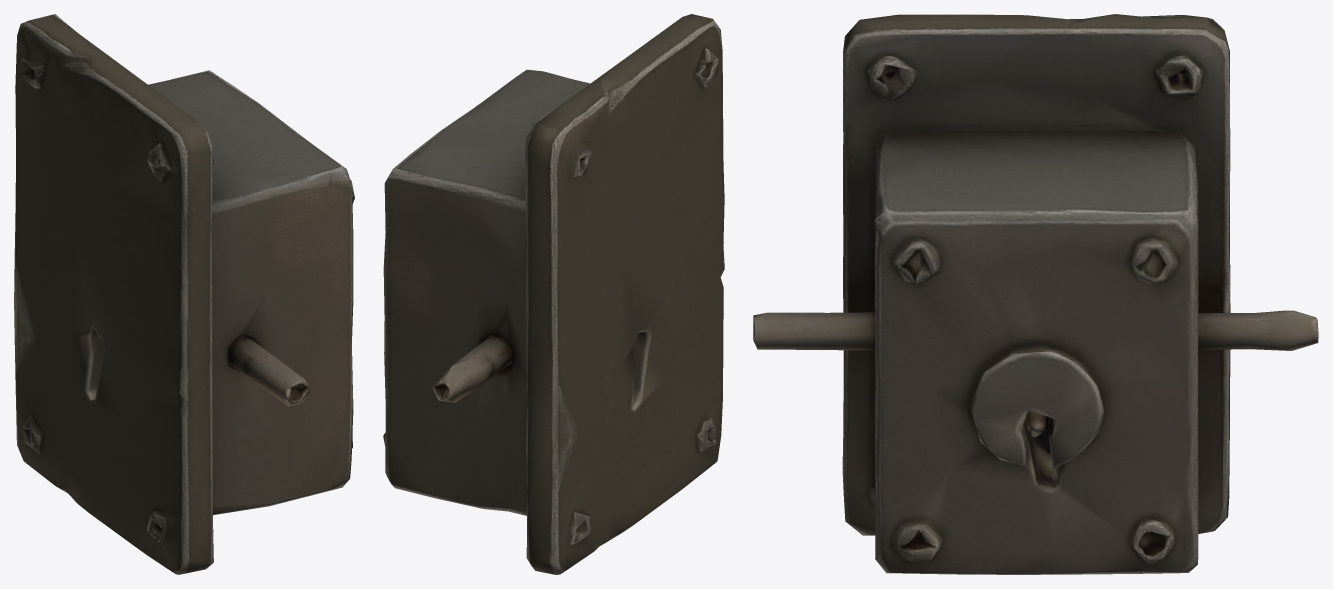
Rendered from key_lock.476a371ea3.glb.
The picture shows the model from 3 angles, left to right: view 1: azimuth 30°, elevation 25°; view 2: azimuth 150°, elevation 25°; view 3: azimuth 270°, elevation 25°; orthographic projection. The views are drawn at different scales.
Visible parts, largest first — view 1: key_lock; view 2: key_lock; view 3: key_lock.
Part boxes in pixels (x1,y1,x2,y2): key_lock: [14, 14, 354, 574]; key_lock: [383, 14, 724, 574]; key_lock: [753, 14, 1318, 574].
Size of the model in its own units: 0.0588 by 0.1195 by 0.12.
Materials: 1 (1 with a texture image).
